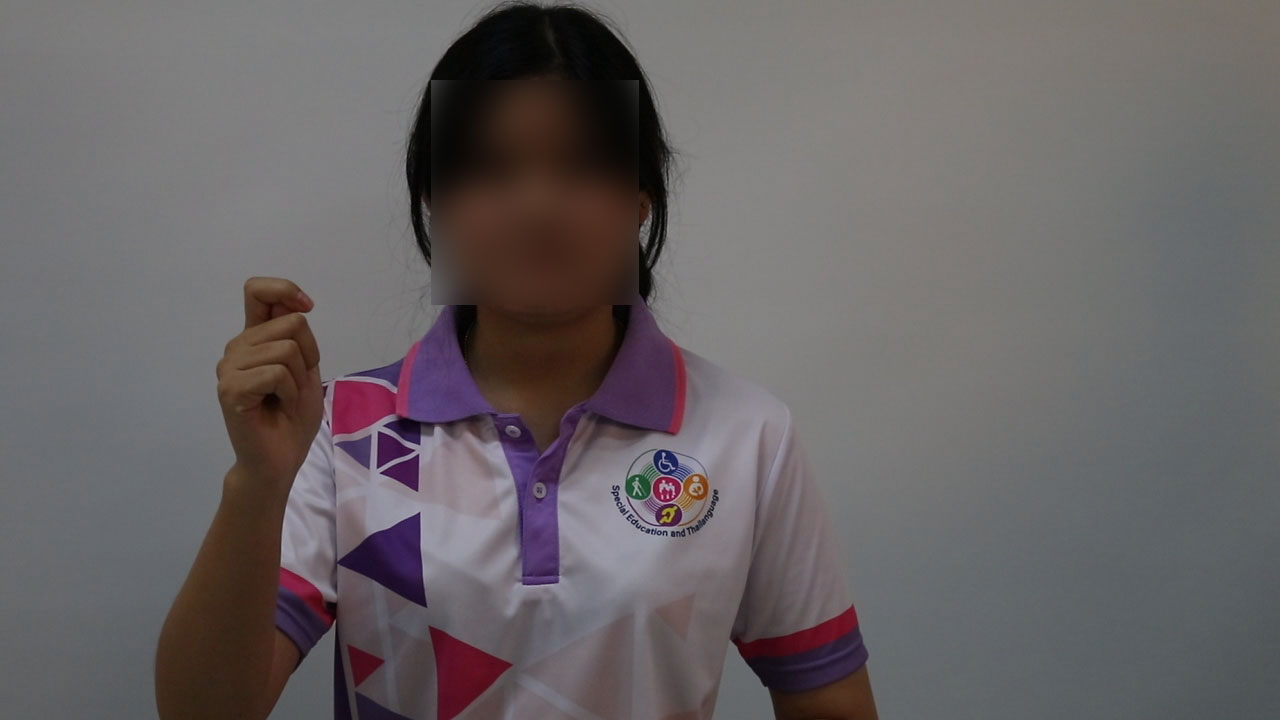or: (204, 268, 330, 490)
